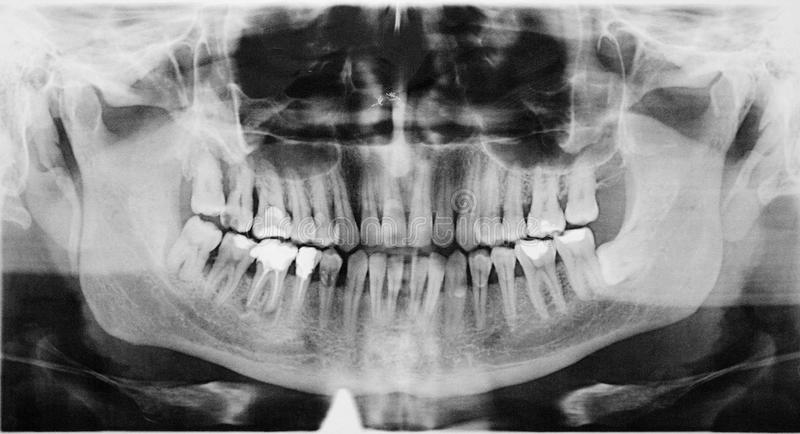canine: (325, 149, 363, 257), (455, 144, 484, 254), (441, 245, 472, 346), (341, 244, 371, 333)
incisor: (351, 155, 385, 253), (377, 152, 411, 248), (407, 149, 435, 250), (433, 161, 459, 254), (425, 248, 450, 337), (383, 248, 410, 328), (404, 252, 430, 333), (364, 250, 391, 321)
molar: (199, 227, 268, 306), (509, 237, 571, 323), (167, 209, 222, 304), (246, 149, 296, 241), (552, 224, 607, 307), (522, 155, 570, 240), (559, 147, 610, 226), (216, 151, 260, 239)
premolar: (284, 244, 327, 328), (488, 239, 524, 336), (306, 150, 340, 250), (474, 150, 507, 249), (311, 245, 347, 332), (496, 154, 530, 245), (286, 151, 317, 250), (468, 246, 494, 340)
